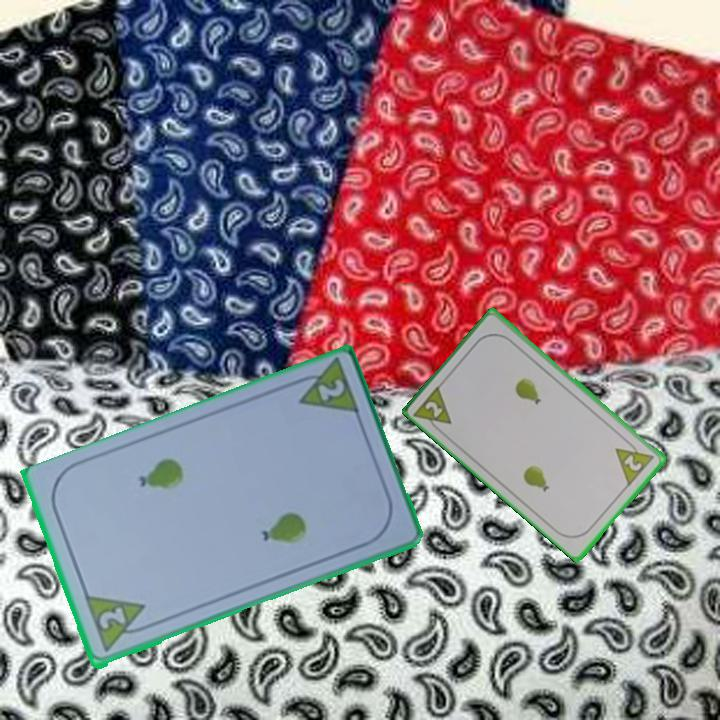2p: (81, 592, 154, 656), (411, 381, 455, 436), (612, 435, 657, 488), (313, 376, 348, 405)
